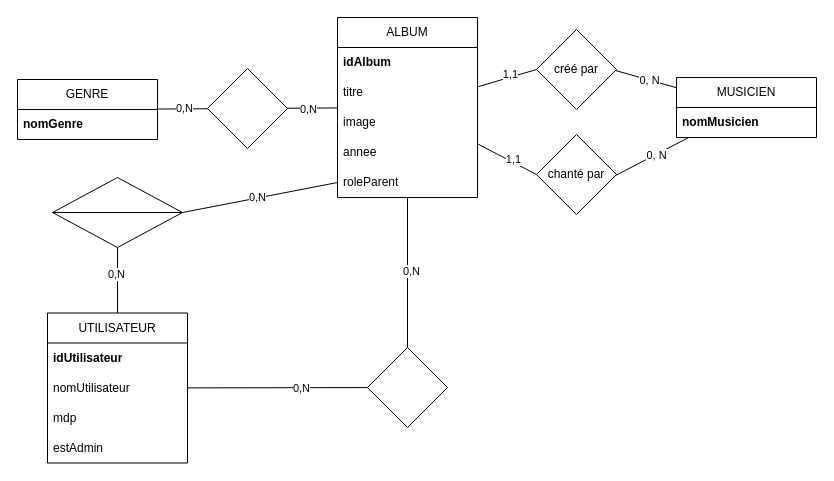
The diagram is 834 pixels wide and 481 high, and some of its shapes have lost their labels. Each missing label, with the centre of its shape:
"appartenir" goes at point 247,108.
"apprecier" goes at point 407,387.
"evaluer note" goes at point 117,212.
